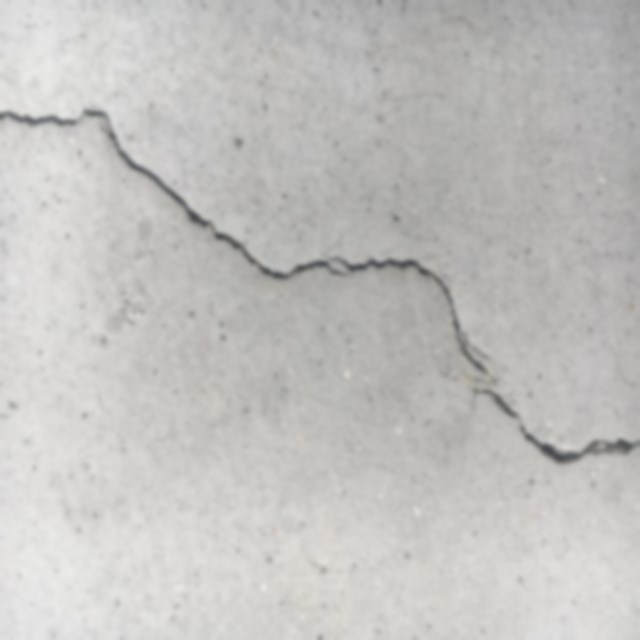SurfaceCrack: (1, 44, 640, 551)
